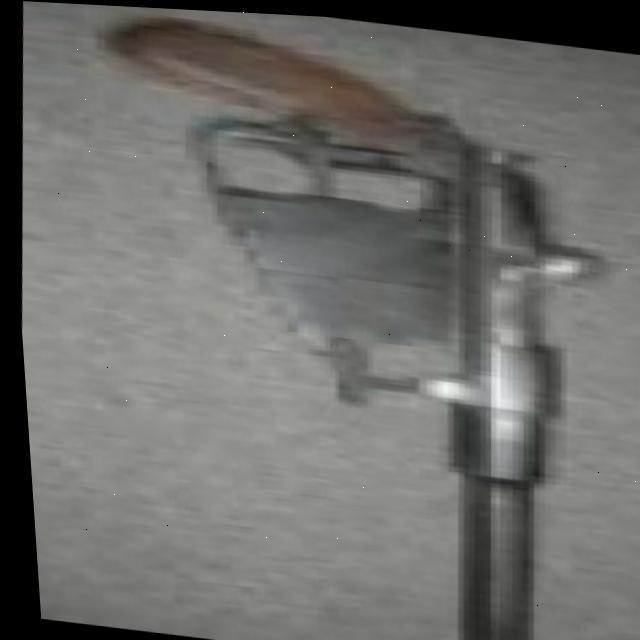gun: (67, 3, 640, 640)
